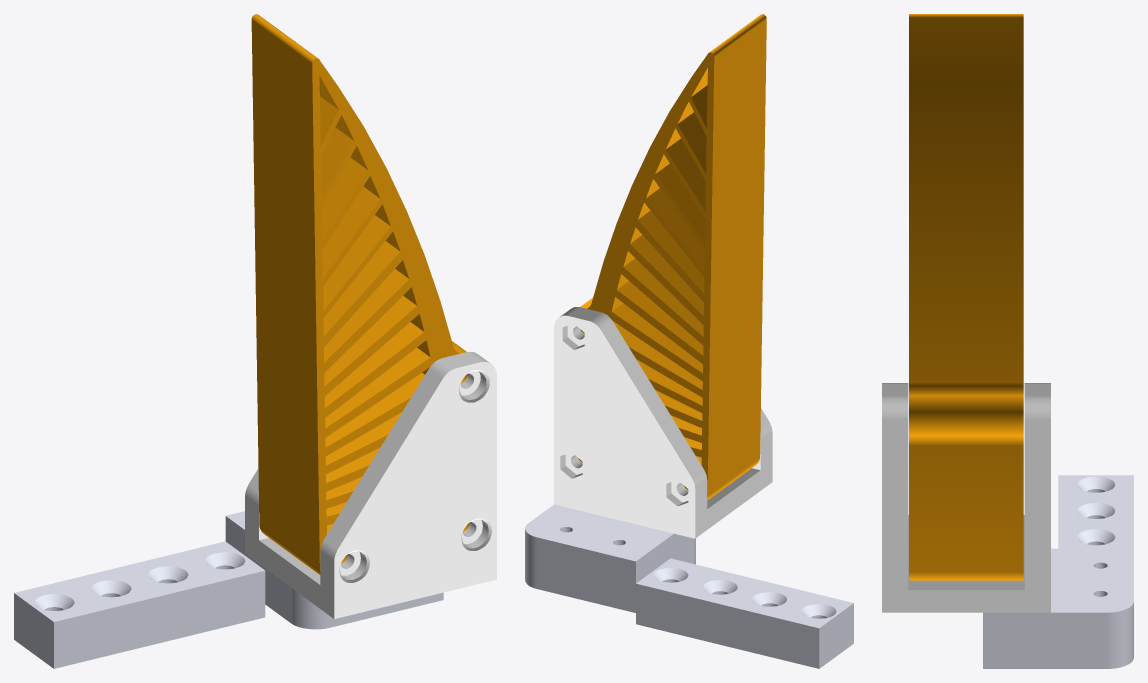
The model's file is right_finger.dae.
3 renders of one model, left to right at view 1: azimuth 30°, elevation 25°; view 2: azimuth 150°, elevation 25°; view 3: azimuth 270°, elevation 25°, orthographic. The views are drawn at different scales.
Parts seen in each view (by area): view 1: ??1, 1_?1, ___3?_?____Y__a2?3_?_?Y__?D1; view 2: ??1, ___3?_?____Y__a2?3_?_?Y__?D1, 1_?1; view 3: ??1, ___3?_?____Y__a2?3_?_?Y__?D1, 1_?1.
Part boxes in pixels (x1,y1,x2,y2): ??1: [251, 14, 469, 574]; 1_?1: [245, 351, 496, 619]; ___3?_?____Y__a2?3_?_?Y__?D1: [14, 511, 443, 668]; ??1: [578, 14, 766, 500]; ___3?_?____Y__a2?3_?_?Y__?D1: [525, 504, 853, 668]; 1_?1: [554, 307, 772, 538]; ??1: [909, 14, 1023, 580]; ___3?_?____Y__a2?3_?_?Y__?D1: [983, 475, 1133, 668]; 1_?1: [882, 383, 1050, 612].
Bounding box in the file's own units: 0.086 × 0.0567 × 0.1465.
